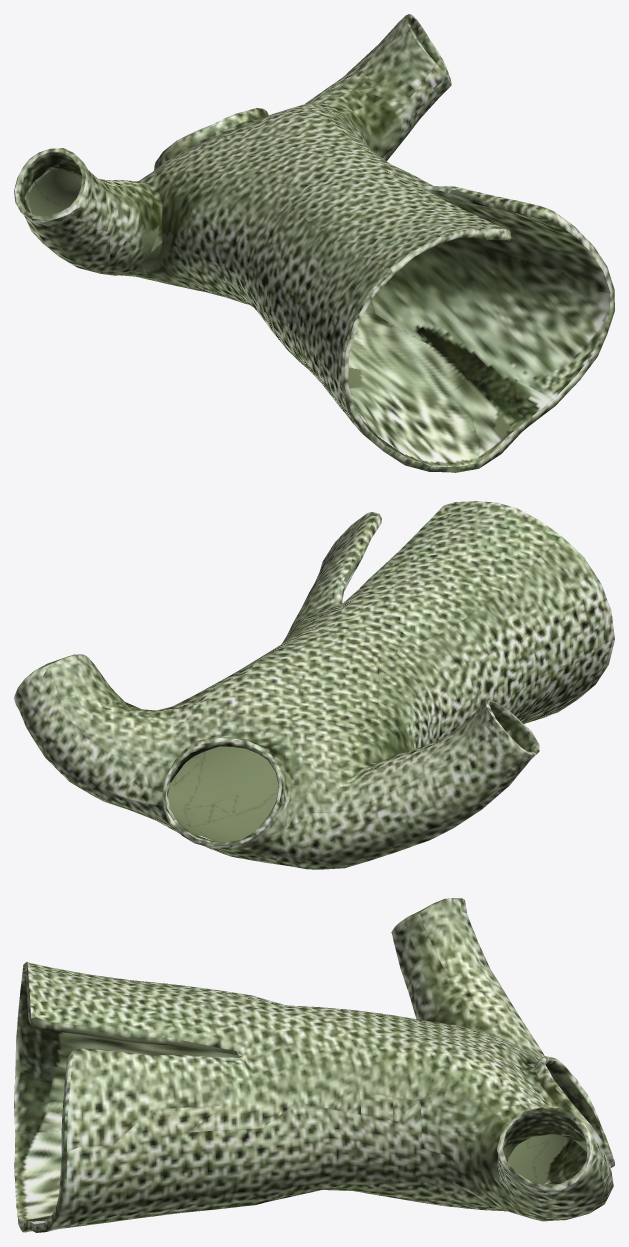
File: item_mm9_10104.glb
3 views of the same model, one above another, from view 1: azimuth 30°, elevation 25°; view 2: azimuth 150°, elevation 25°; view 3: azimuth 270°, elevation 25° (orthographic). The views are drawn at different scales.
Parts seen in each view (by area): view 1: d10104; view 2: d10104; view 3: d10104.
Part boxes in pixels (x1,y1,x2,y2): d10104: (14, 14, 614, 472); d10104: (14, 501, 614, 869); d10104: (14, 898, 614, 1232).
Bounding box in the file's own units: 0.9765 × 0.456 × 1.02.
1 material, 1 textured.
